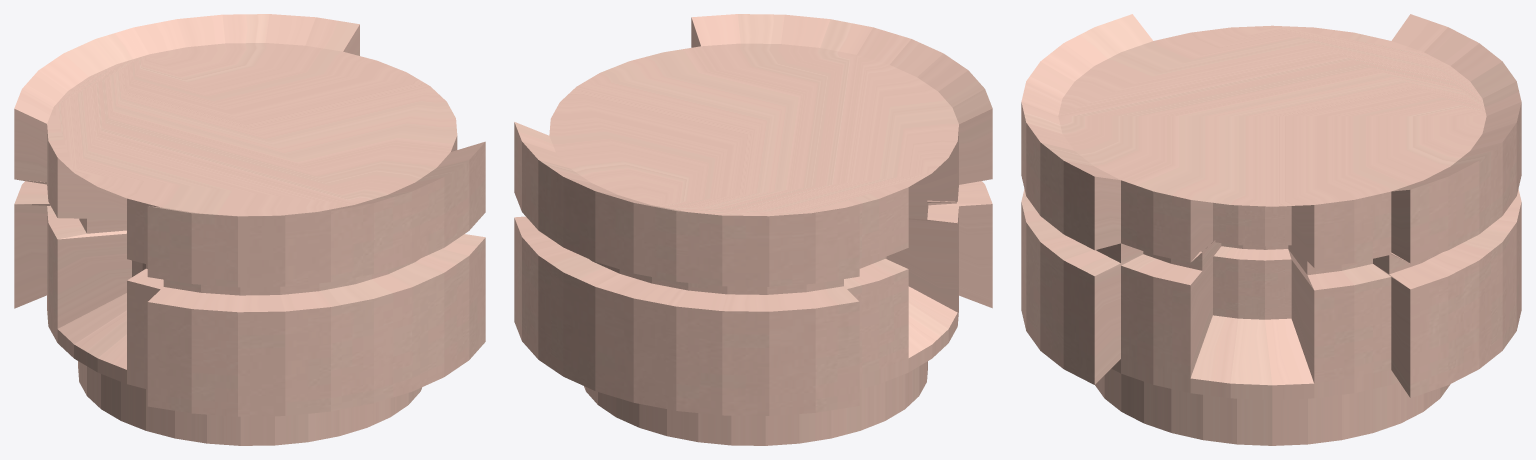
File: upperbody.glb
3 renders of one model, left to right at view 1: azimuth 30°, elevation 25°; view 2: azimuth 150°, elevation 25°; view 3: azimuth 270°, elevation 25°, orthographic. The views are drawn at different scales.
Visible parts, largest first — view 1: upperbody; view 2: upperbody; view 3: upperbody.
Boxes of the visible parts, x1,y1,x2,y2 form: upperbody: [14, 14, 485, 445]; upperbody: [514, 14, 992, 445]; upperbody: [1021, 14, 1521, 445].
Bounding box in the file's own units: 2 × 1.38 × 2.34.
Materials: 1 (1 with a texture image).
